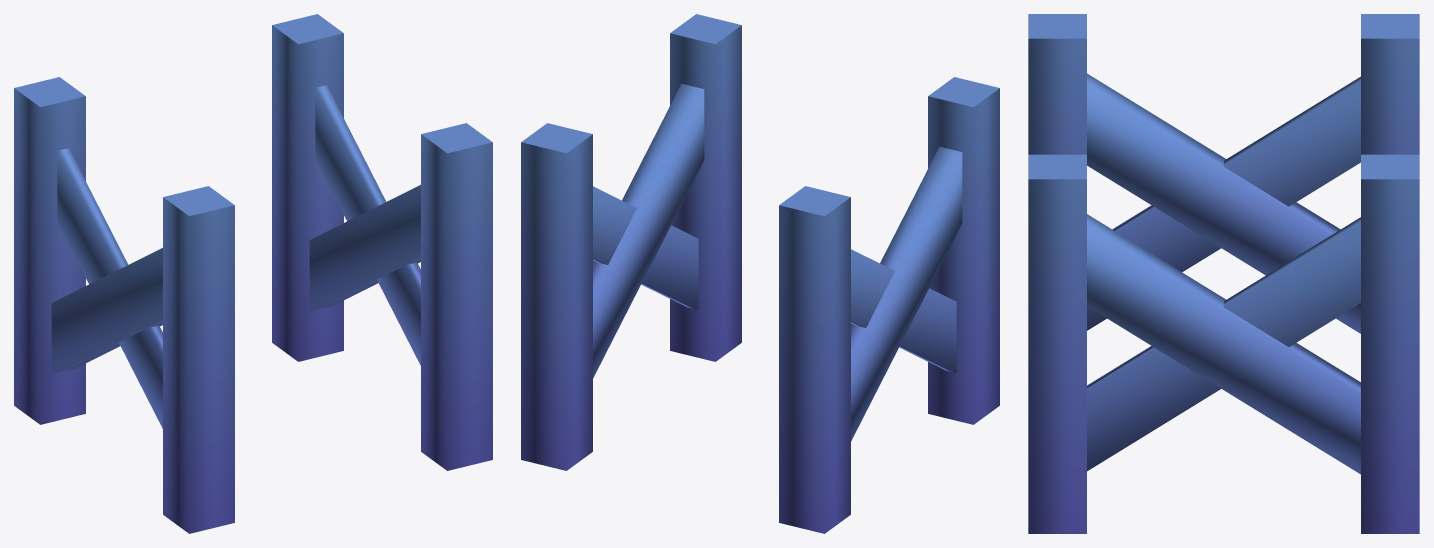
File: kenney-toy-car-supports-diagonal.glb
3 renders of one model, left to right at view 1: azimuth 30°, elevation 25°; view 2: azimuth 150°, elevation 25°; view 3: azimuth 270°, elevation 25°, orthographic. The views are drawn at different scales.
Visible parts, largest first — view 1: supports-diagonal; view 2: supports-diagonal; view 3: supports-diagonal.
Boxes of the visible parts, x1,y1,x2,y2 form: supports-diagonal: (14,14,492,533); supports-diagonal: (521,14,999,533); supports-diagonal: (1028,14,1419,533).
Bounding box in the file's own units: 1 × 1 × 1.
Materials: 1 (1 with a texture image).
